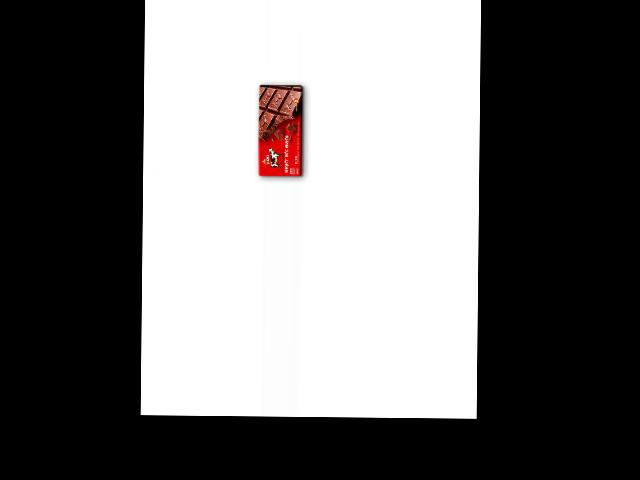chocolate: (256, 83, 306, 179)
